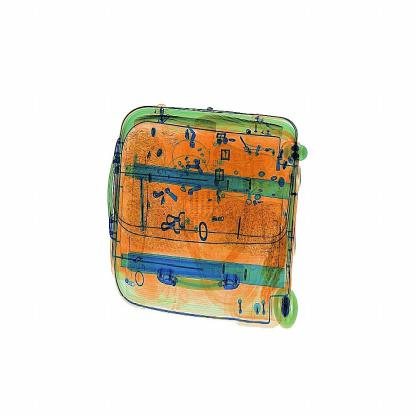knife: (133, 174, 150, 234)
